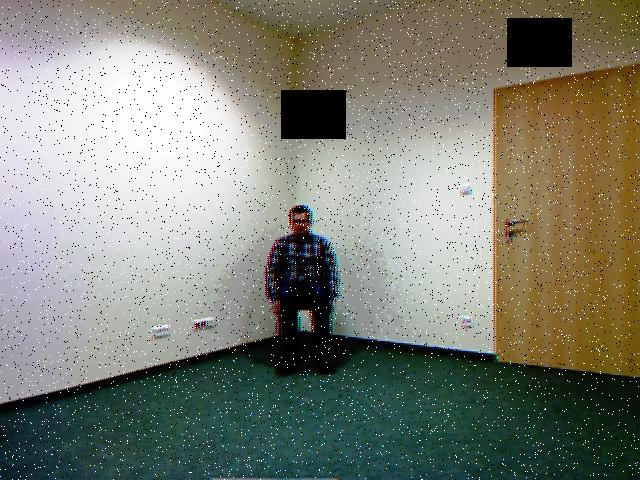sitting: (260, 196, 351, 386)
